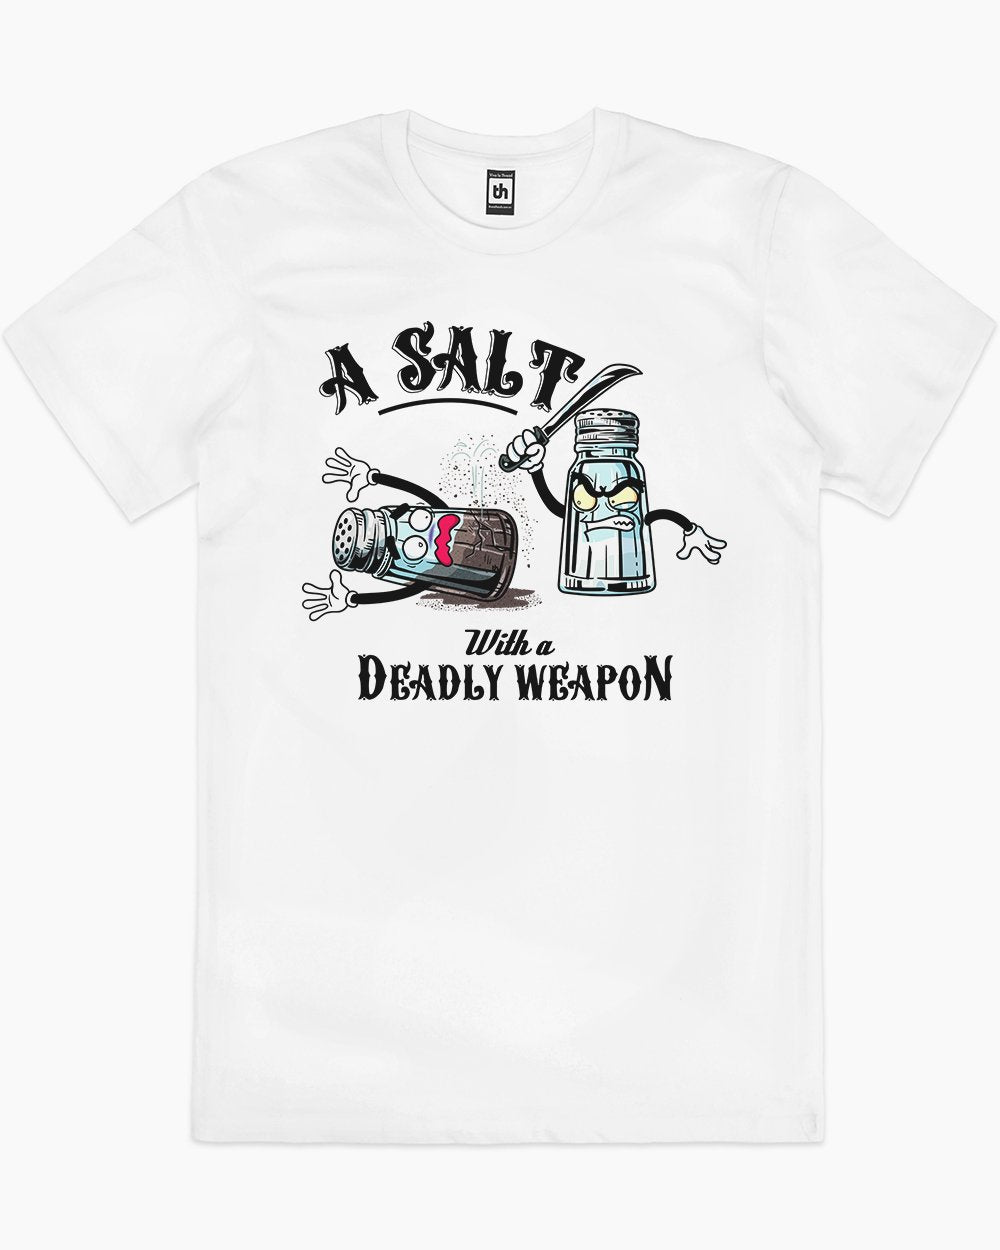design: (294, 312, 734, 708)
